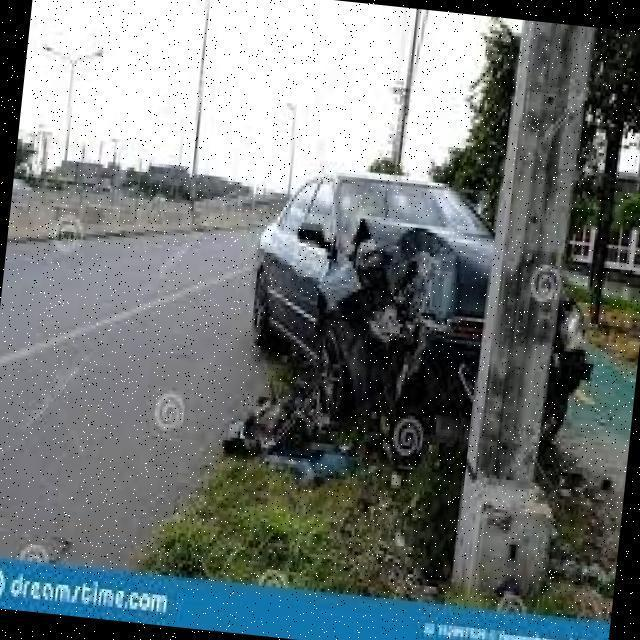accident: (240, 164, 596, 469)
